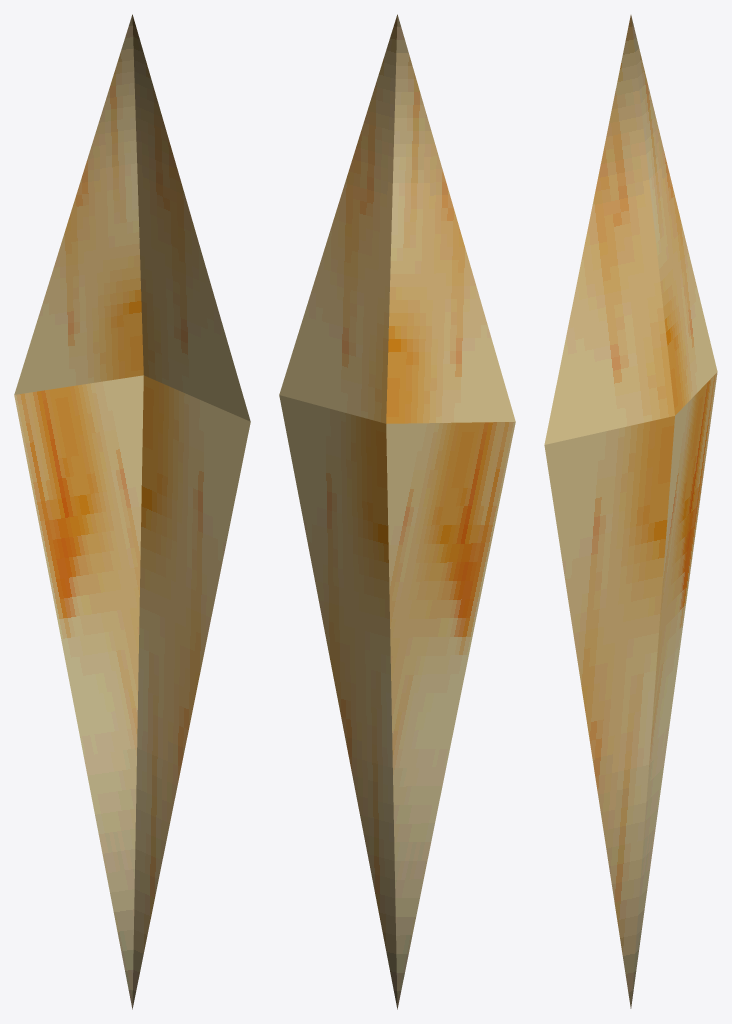
The model's file is Eckverschluß [GelbesMetall]_1236.glb.
The picture shows the model from 3 angles, left to right: view 1: azimuth 30°, elevation 25°; view 2: azimuth 210°, elevation 25°; view 3: azimuth 270°, elevation 25°; orthographic projection.
Visible parts, largest first — view 1: pPlaneShape11, pPlaneShape10, pPlaneShape8, pPlaneShape9; view 2: pPlaneShape11, pPlaneShape10, pPlaneShape8, pPlaneShape9; view 3: pPlaneShape10, pPlaneShape9, pPlaneShape11, pPlaneShape8.
Part boxes in pixels (x1,y1,x2,y2): pPlaneShape11: [14, 375, 143, 1009]; pPlaneShape10: [132, 375, 250, 1007]; pPlaneShape8: [14, 14, 143, 394]; pPlaneShape9: [132, 15, 250, 421]; pPlaneShape11: [386, 421, 515, 1009]; pPlaneShape10: [279, 395, 397, 1007]; pPlaneShape8: [386, 14, 515, 423]; pPlaneShape9: [279, 15, 397, 423]; pPlaneShape10: [544, 416, 674, 1008]; pPlaneShape9: [544, 15, 674, 444]; pPlaneShape11: [631, 372, 717, 1008]; pPlaneShape8: [631, 15, 717, 415].
Size of the model in its own units: 0.0549 by 0.3486 by 0.0549.
4 materials, 4 textured.
